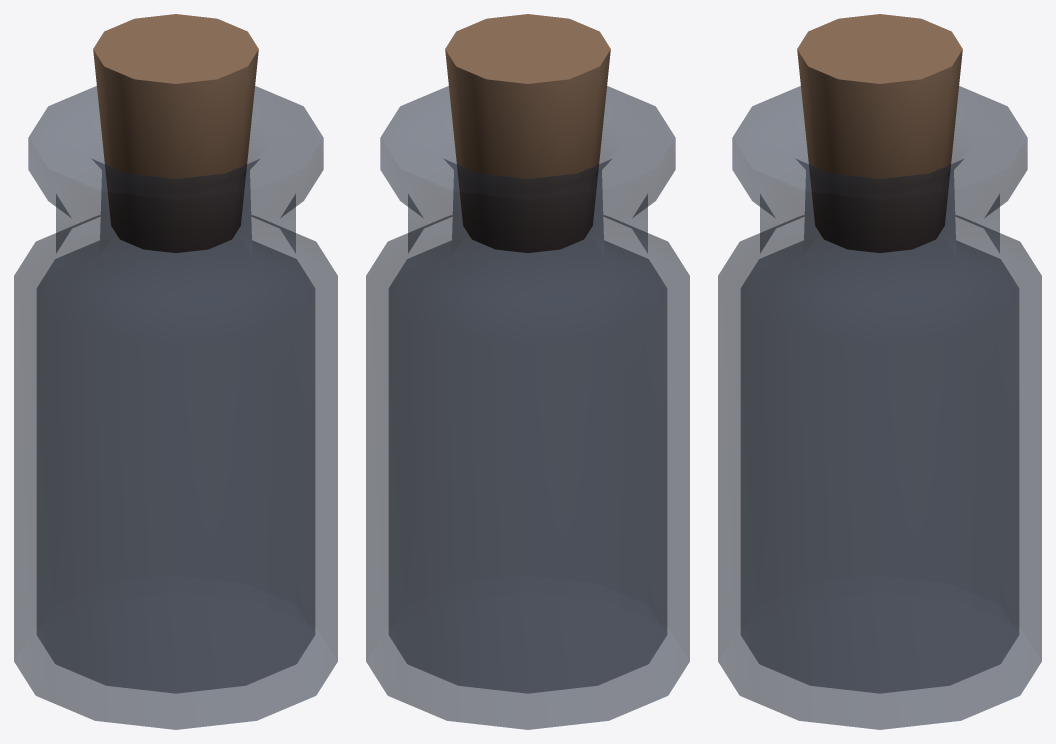
File: human-containers-glass-bottle_v1.glb
3 renders of one model, left to right at view 1: azimuth 30°, elevation 25°; view 2: azimuth 150°, elevation 25°; view 3: azimuth 270°, elevation 25°, orthographic.
Parts seen in each view (by area): view 1: Glass Bottle_v1.001, Glass Bottle_v1; view 2: Glass Bottle_v1.001, Glass Bottle_v1; view 3: Glass Bottle_v1.001, Glass Bottle_v1.
Part boxes in pixels (x1=…): Glass Bottle_v1.001: x1=14, y1=86, x2=337, y2=729; Glass Bottle_v1: x1=93, y1=14, x2=258, y2=252; Glass Bottle_v1.001: x1=366, y1=86, x2=689, y2=729; Glass Bottle_v1: x1=445, y1=14, x2=610, y2=252; Glass Bottle_v1.001: x1=718, y1=86, x2=1041, y2=729; Glass Bottle_v1: x1=797, y1=14, x2=962, y2=252.
Bounding box in the file's own units: 0.0719 × 0.15 × 0.0719.
